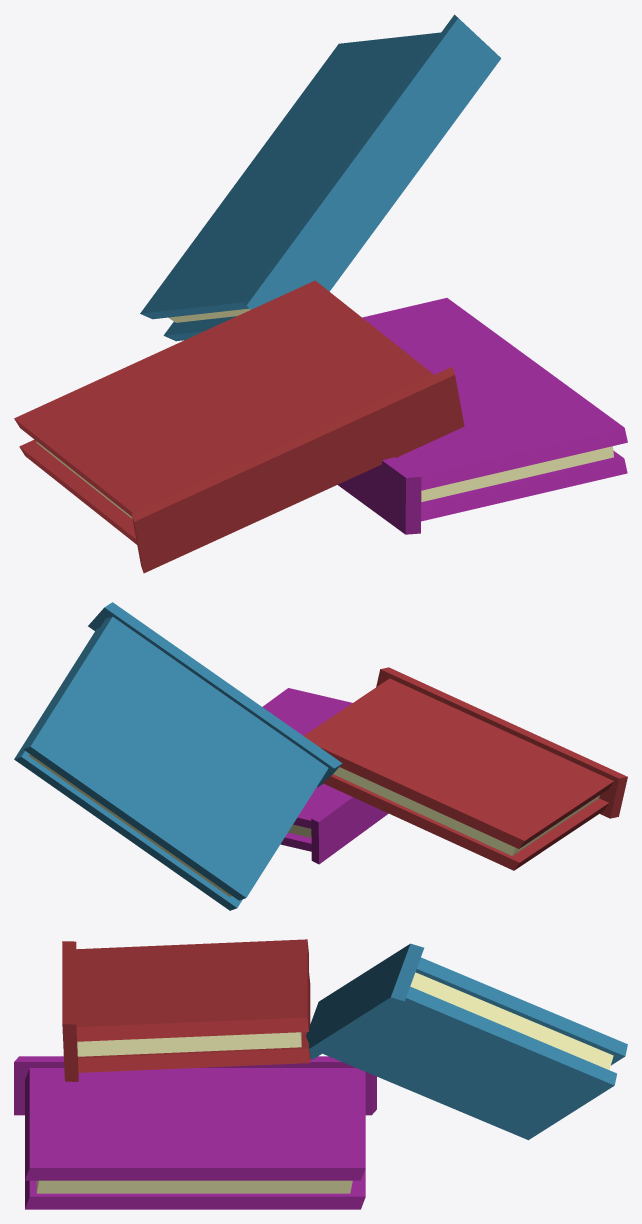
File: ksiazki.fbx
3 renders of one model, top to bottom at view 1: azimuth 30°, elevation 25°; view 2: azimuth 150°, elevation 25°; view 3: azimuth 270°, elevation 25°, orthographic. The views are drawn at different scales.
Parts seen in each view (by area): view 1: Plane.012; view 2: Plane.012; view 3: Plane.012.
Part boxes in pixels (x1,y1,x2,y2): Plane.012: (14, 14, 627, 573); Plane.012: (14, 602, 627, 910); Plane.012: (14, 939, 627, 1209).
Size of the model in its own units: 132 by 73.05 by 136.
